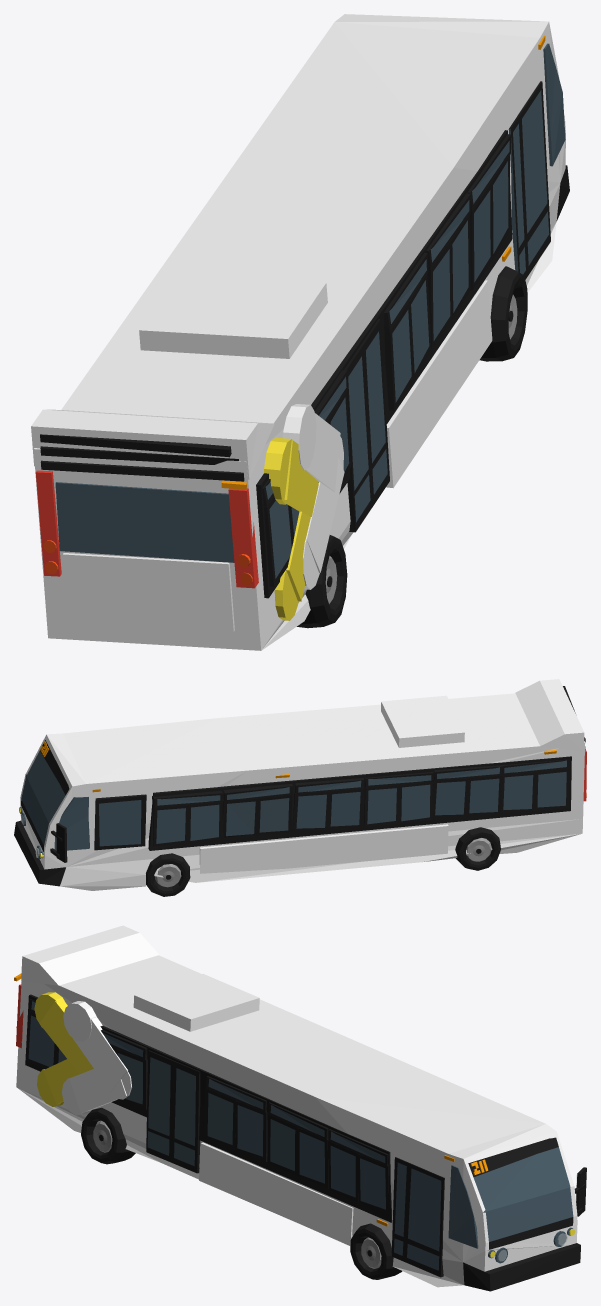
Rendered from city_bus.glb.
The picture shows the model from 3 angles, top to bottom: view 1: azimuth 30°, elevation 25°; view 2: azimuth 150°, elevation 25°; view 3: azimuth 270°, elevation 25°; orthographic projection. The views are drawn at different scales.
Parts seen in each view (by area): view 1: group2014177817, group775176079, group56133134, group916553190, group1025106320, group1318622928, group388658908, group747704577, group1062617156, group879280396, group1621030145, group853765057 (+13 smaller); view 2: group2014177817, group645127828, group226044191, group1118246283, group1366339769, group775176079, group1318622928, group1543686332, group739186642, group310442833, group2071648707, group1809869710; view 3: group2014177817, group1025106320, group388658908, group747704577, group1318622928, group775176079, group1062617156, group1621030145, group1841204647, group853765057, group879280396, group765134991 (+6 smaller).
Part boxes in pixels (<box>): group2014177817: <box>33,14,569,650</box>; group775176079: <box>139,274,327,358</box>; group56133134: <box>55,482,234,562</box>; group916553190: <box>62,553,234,631</box>; group1025106320: <box>386,280,492,488</box>; group1318622928: <box>31,409,274,479</box>; group388658908: <box>344,319,389,532</box>; group747704577: <box>508,81,550,279</box>; group1062617156: <box>384,253,431,410</box>; group879280396: <box>264,437,318,620</box>; group1621030145: <box>426,193,470,348</box>; group853765057: <box>256,130,512,598</box>; group2014177817: <box>14,693,585,890</box>; group645127828: <box>148,756,571,850</box>; group226044191: <box>199,824,448,873</box>; group1118246283: <box>152,790,222,846</box>; group1366339769: <box>364,772,433,826</box>; group775176079: <box>381,695,464,747</box>; group1318622928: <box>515,679,584,751</box>; group1543686332: <box>94,794,146,850</box>; group739186642: <box>455,827,500,870</box>; group310442833: <box>146,853,190,896</box>; group2071648707: <box>54,797,89,850</box>; group1809869710: <box>56,823,67,862</box>; group2014177817: <box>16,955,580,1291</box>; group1025106320: <box>199,1142,353,1245</box>; group388658908: <box>146,1050,200,1173</box>; group747704577: <box>391,1157,444,1277</box>; group1318622928: <box>21,925,159,985</box>; group775176079: <box>133,974,259,1031</box>; group1062617156: <box>205,1076,267,1161</box>; group1621030145: <box>267,1102,328,1188</box>; group1841204647: <box>328,1129,388,1213</box>; group853765057: <box>25,994,391,1222</box>; group879280396: <box>34,992,93,1106</box>; group765134991: <box>81,1107,135,1164</box>.
Bounding box in the file's own units: 12 × 3.82 × 11.61.
